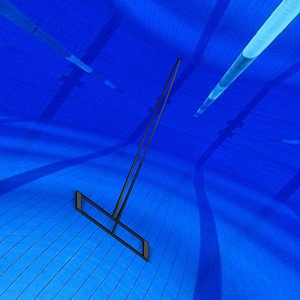circle: (74, 53, 182, 263)
